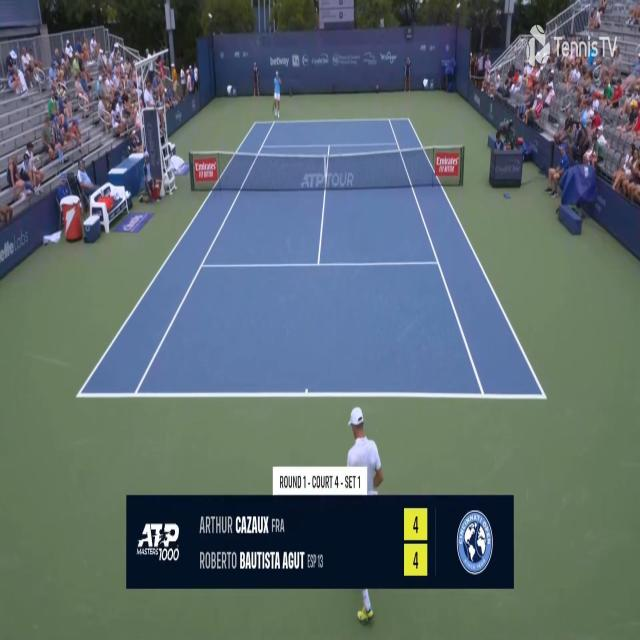tennis-player: (342, 403, 384, 495), (272, 70, 282, 120)
